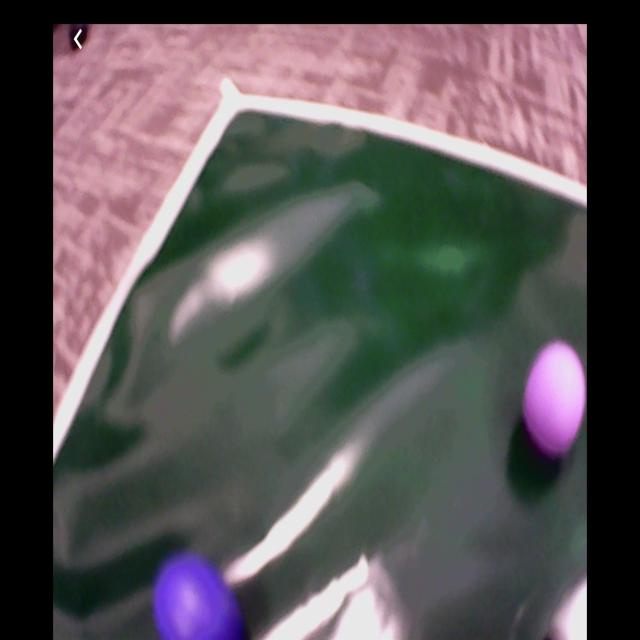ball: (152, 555, 246, 640), (523, 341, 587, 456)
